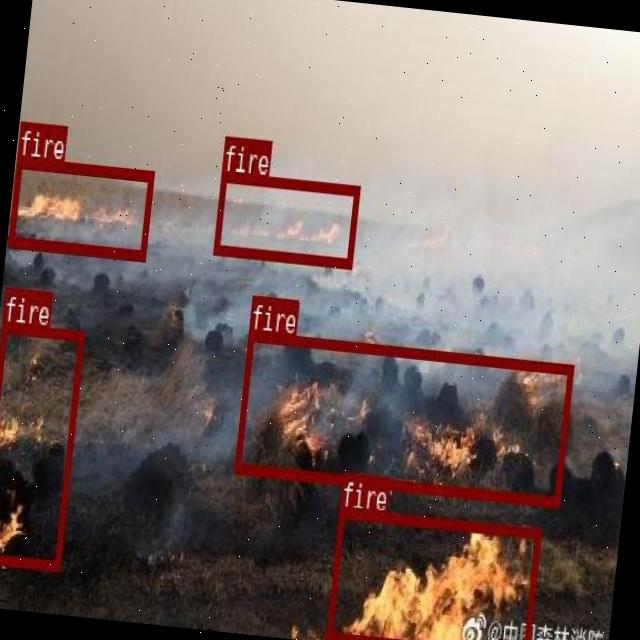fire: (232, 330, 572, 506), (324, 506, 539, 640), (0, 321, 83, 568), (7, 154, 153, 258), (212, 171, 360, 267)
